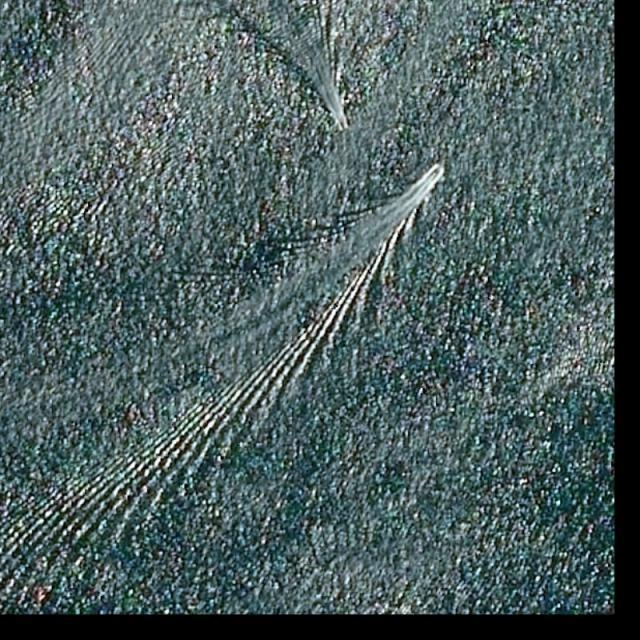ship: (435, 164, 446, 175), (341, 122, 348, 133)
